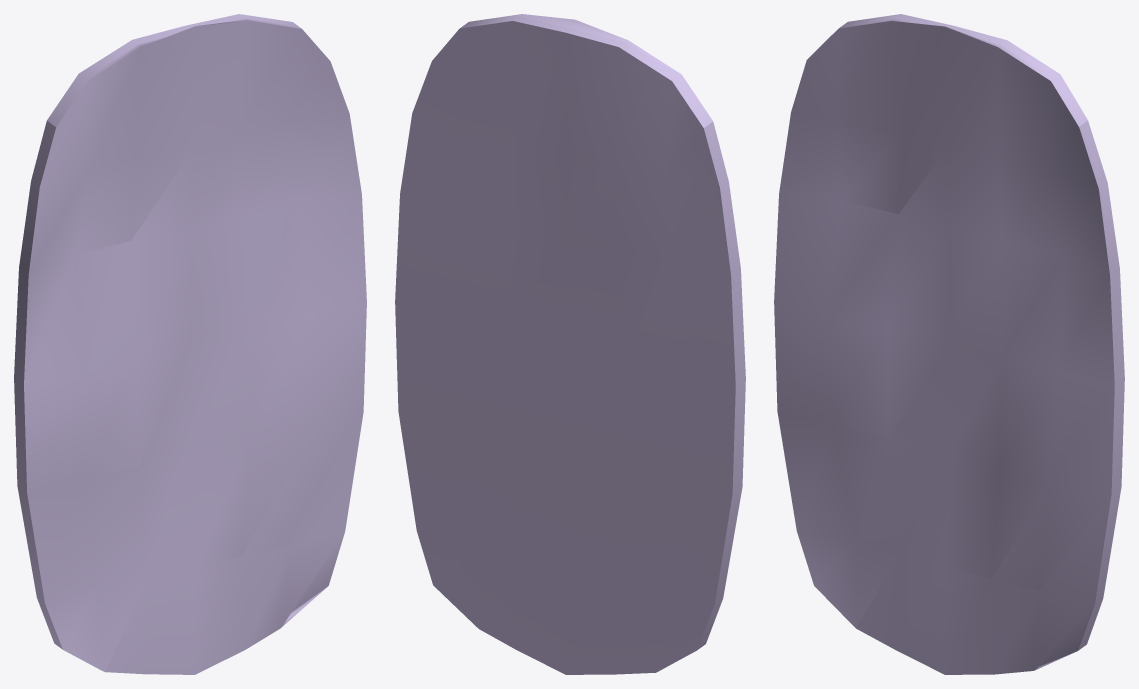
The model's file is mirrow.FBX.
The picture shows the model from 3 angles, left to right: view 1: azimuth 30°, elevation 25°; view 2: azimuth 150°, elevation 25°; view 3: azimuth 330°, elevation 25°; orthographic projection.
Visible parts, largest first — view 1: Box001; view 2: Box001; view 3: Box001.
Part boxes in pixels (bbox=[...]): Box001: bbox=[14, 14, 366, 674]; Box001: bbox=[395, 14, 745, 674]; Box001: bbox=[774, 14, 1124, 674].
Bounding box in the file's own units: 46.49 × 84.29 × 4.79.
1 material, 1 textured.
